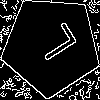L: (26, 21, 79, 69)
